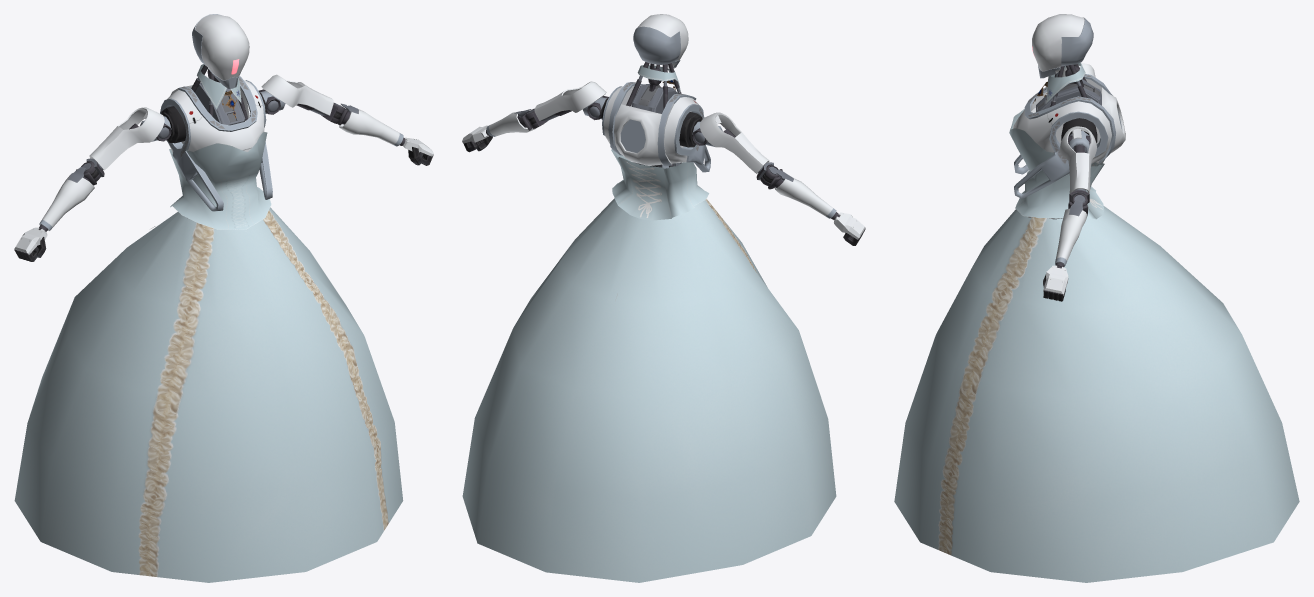
The model's file is Dressbot.fbx.
3 renders of one model, left to right at view 1: azimuth 30°, elevation 25°; view 2: azimuth 150°, elevation 25°; view 3: azimuth 270°, elevation 25°, orthographic. The views are drawn at different scales.
Visible parts, largest first — view 1: dress, Arm, Chest, Head, hand, Bone, Foot; view 2: dress, Chest, Arm, hand, Head, Bone, Foot; view 3: dress, Chest, Head, Arm, hand, Foot, Bone.
Part boxes in pixels (x1=…): dress: x1=14, y1=64, x2=403, y2=582; Arm: x1=39, y1=74, x2=403, y2=230; Chest: x1=160, y1=76, x2=272, y2=211; Head: x1=192, y1=14, x2=249, y2=88; hand: x1=14, y1=65, x2=433, y2=261; Bone: x1=38, y1=103, x2=405, y2=231; Foot: x1=195, y1=82, x2=245, y2=125; dress: x1=462, y1=65, x2=836, y2=582; Chest: x1=602, y1=82, x2=710, y2=172; Arm: x1=486, y1=81, x2=836, y2=218; hand: x1=462, y1=62, x2=865, y2=245; Head: x1=633, y1=14, x2=688, y2=68; Bone: x1=486, y1=108, x2=839, y2=219; Foot: x1=631, y1=84, x2=677, y2=167; dress: x1=894, y1=62, x2=1299, y2=582; Chest: x1=1013, y1=74, x2=1125, y2=198; Head: x1=1032, y1=14, x2=1093, y2=78; Arm: x1=1055, y1=63, x2=1096, y2=266; hand: x1=1043, y1=64, x2=1097, y2=301; Foot: x1=1028, y1=79, x2=1101, y2=219; Bone: x1=1055, y1=144, x2=1089, y2=268.
Bounding box in the file's own units: 323 × 399 × 277.
8 materials, 8 textured.
